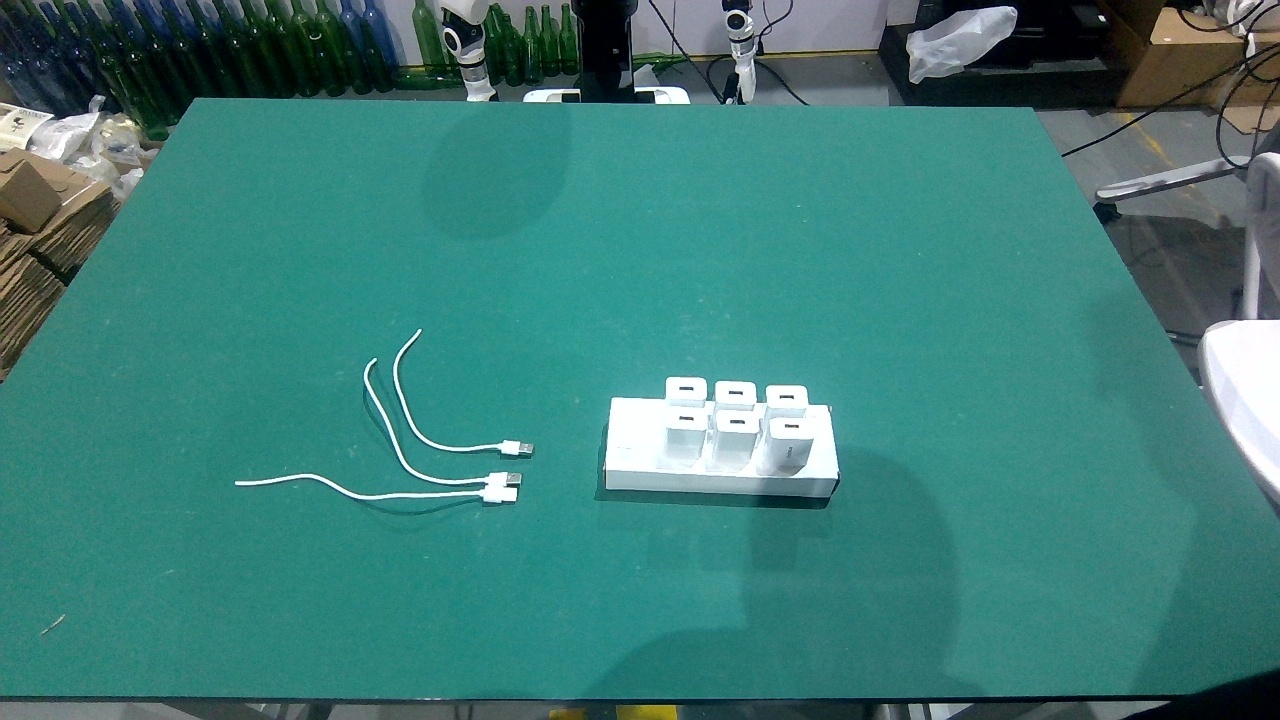usb_a_port: (727, 416, 749, 427), (677, 384, 697, 396), (775, 393, 798, 403), (783, 419, 800, 432), (726, 388, 745, 398), (676, 413, 695, 423)
